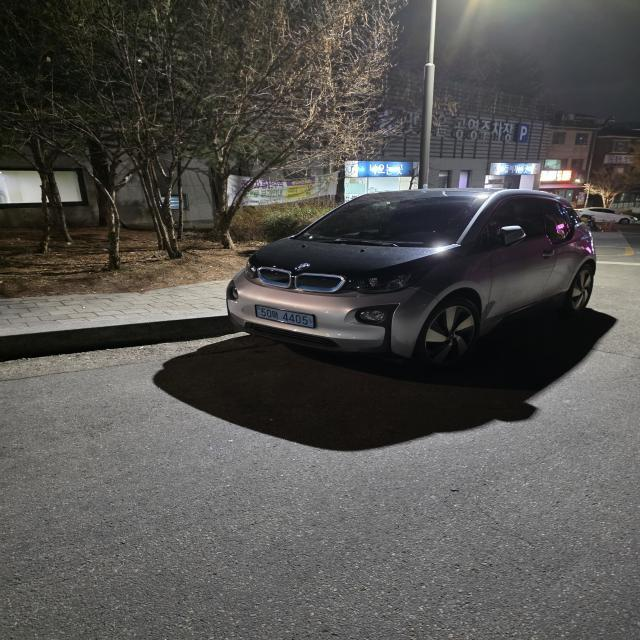car: (251, 298, 322, 332)
carev: (304, 311, 316, 329), (252, 302, 262, 321)
